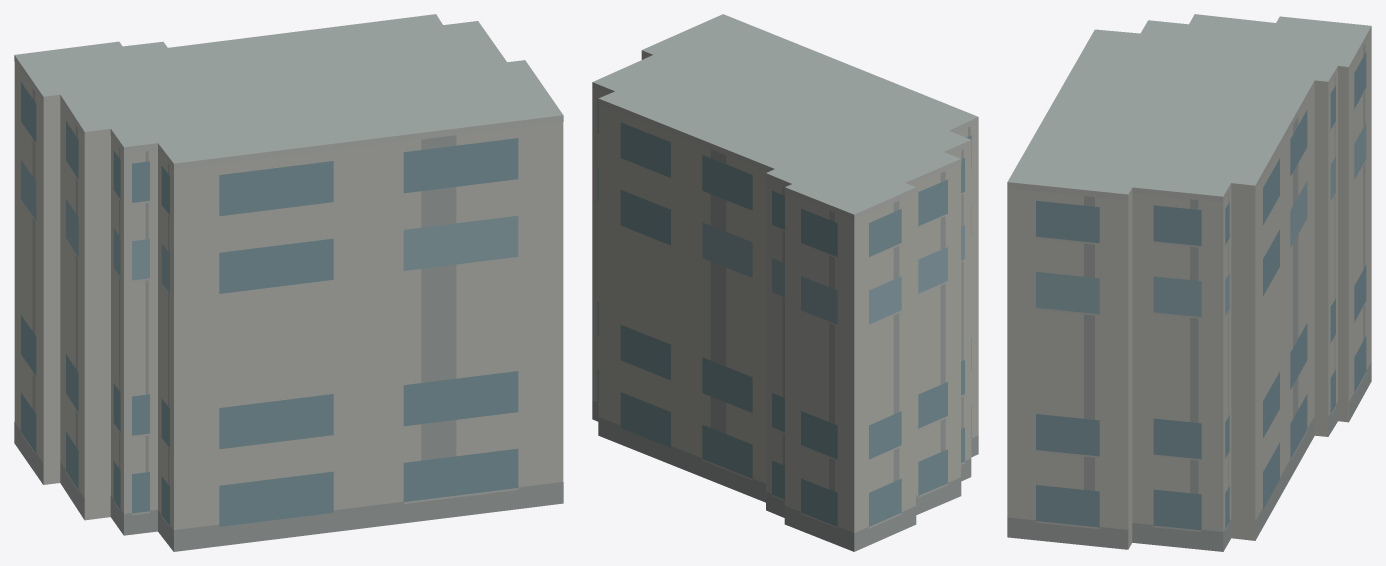
The model's file is survey-upis-32503354.glb.
3 renders of one model, left to right at view 1: azimuth 30°, elevation 25°; view 2: azimuth 150°, elevation 25°; view 3: azimuth 270°, elevation 25°, orthographic. The views are drawn at different scales.
Parts seen in each view (by area): view 1: survey-upis-32503354.tmp; view 2: survey-upis-32503354.tmp; view 3: survey-upis-32503354.tmp.
Boxes of the visible parts, x1=… form: survey-upis-32503354.tmp: x1=14, y1=14, x2=563, y2=551; survey-upis-32503354.tmp: x1=592, y1=14, x2=978, y2=551; survey-upis-32503354.tmp: x1=1007, y1=14, x2=1371, y2=551.
Bounding box in the file's own units: 15.55 × 14.1 × 13.11.
